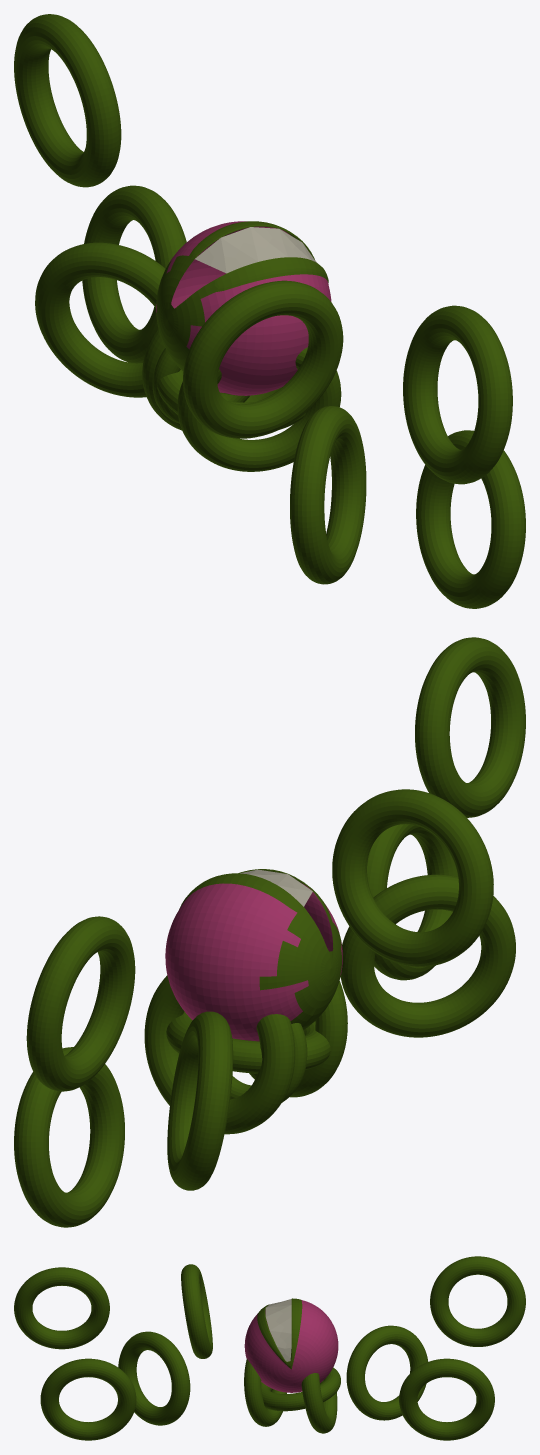
The model's file is plantecarnivore.fbx.
3 renders of one model, top to bottom at view 1: azimuth 30°, elevation 25°; view 2: azimuth 150°, elevation 25°; view 3: azimuth 270°, elevation 25°, orthographic. The views are drawn at different scales.
Visible parts, largest first — view 1: Sphere.001; view 2: Sphere.001; view 3: Sphere.001.
Boxes of the visible parts, <box> form: Sphere.001: <box>14,14,525,608</box>; Sphere.001: <box>14,637,525,1227</box>; Sphere.001: <box>14,1256,525,1440</box>.
Size of the model in its own units: 3116 by 4182 by 11127.
